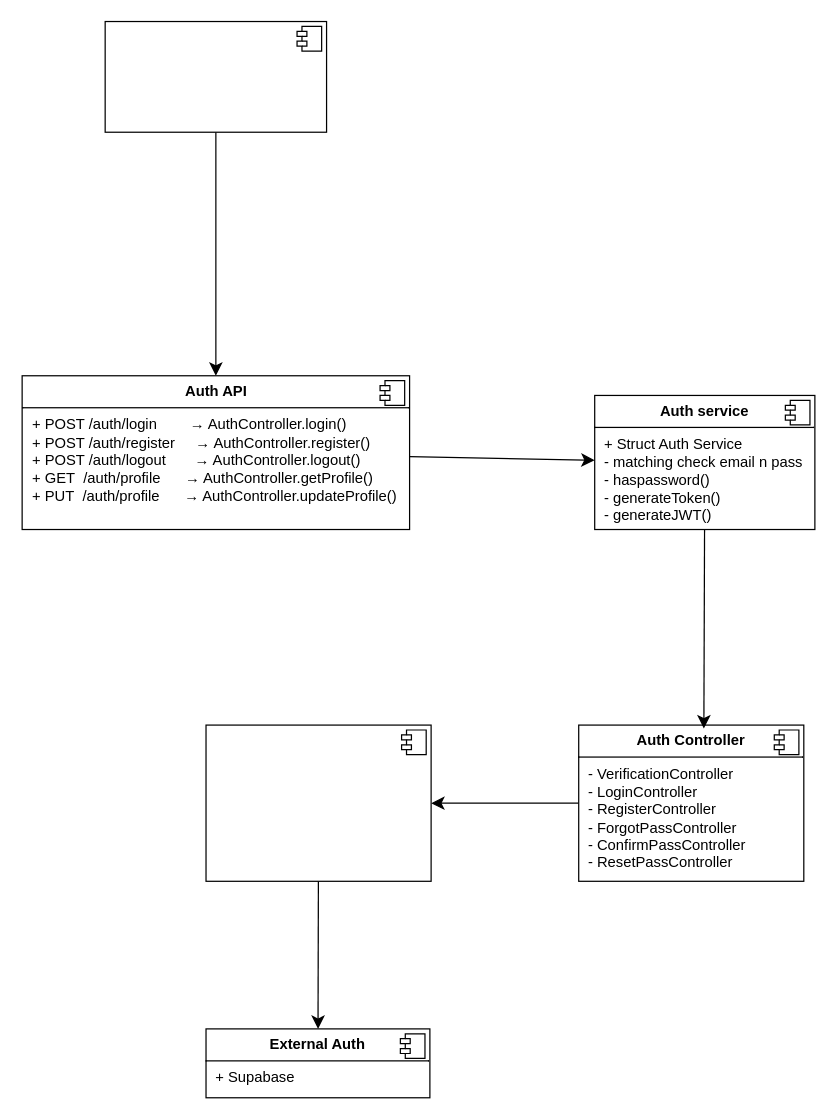
Some shapes in this 836 by 1119 pixel diagram are drawn without their labels. The centre of each missing label's shape, as x and y in pixels:
"Client + Web: React.js & Raiden Go + Mobile: Flutter" belongs at (215,76).
"User Repos + UserRepository - User Database Access" belongs at (318,802).
